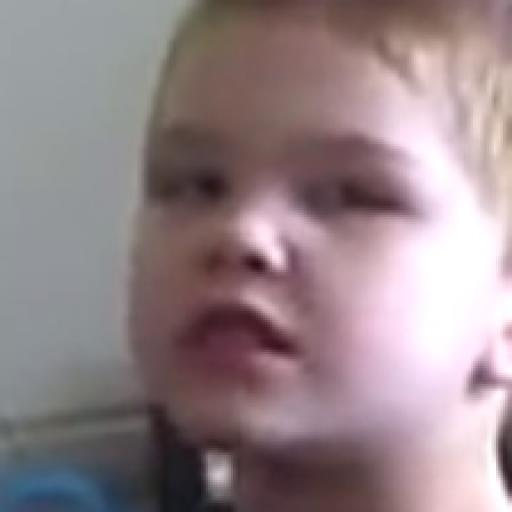Autism: (148, 11, 512, 501)
